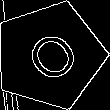O_SE: (16, 22, 83, 89)
